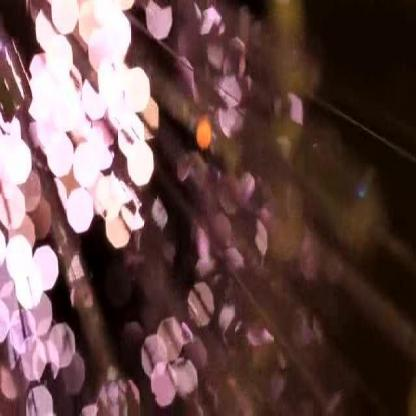other: (5, 6, 242, 398)
